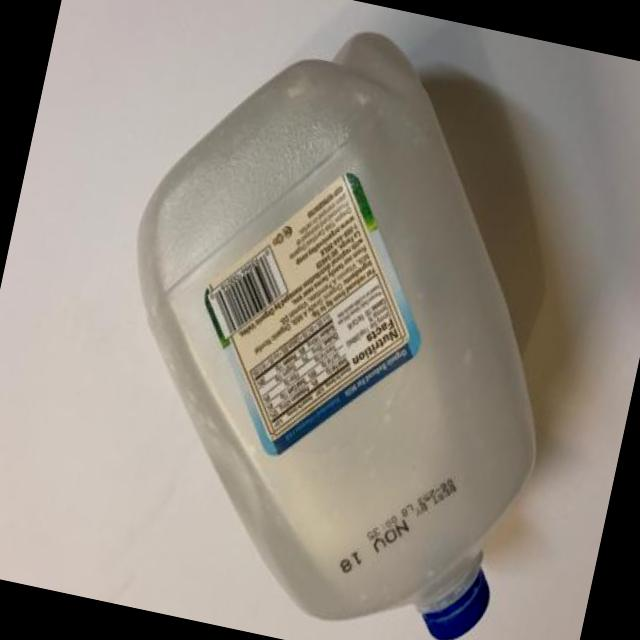Recycle: (64, 0, 615, 640)
